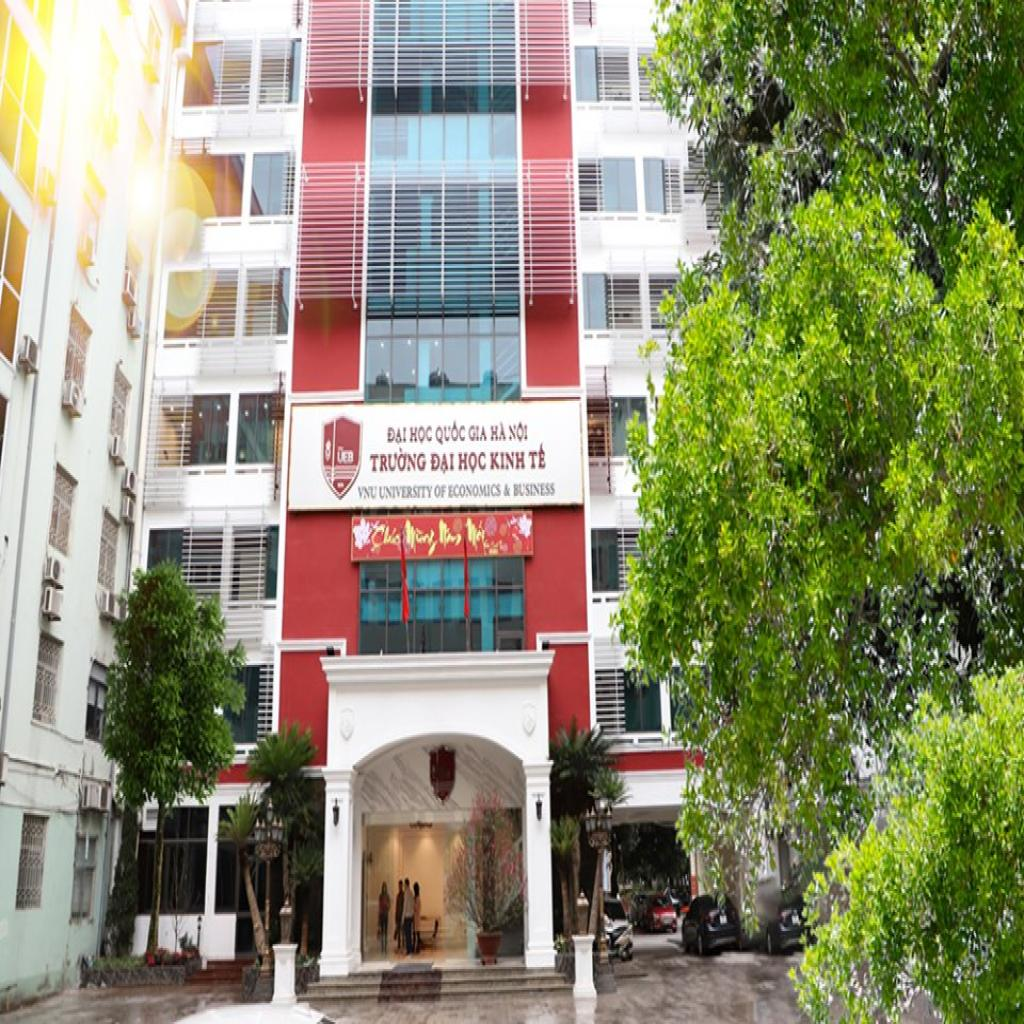text: (402, 515, 439, 562), (367, 445, 428, 473), (448, 477, 505, 503), (378, 479, 435, 503), (369, 516, 403, 556), (509, 475, 559, 502), (438, 516, 465, 556), (466, 515, 491, 558), (458, 446, 486, 477), (487, 450, 528, 471), (434, 418, 467, 443), (429, 450, 456, 477), (508, 416, 531, 445), (527, 441, 547, 473), (384, 424, 409, 448), (354, 481, 379, 505), (408, 424, 434, 446), (468, 420, 490, 444), (490, 418, 508, 443), (335, 448, 354, 468), (432, 482, 449, 502)
